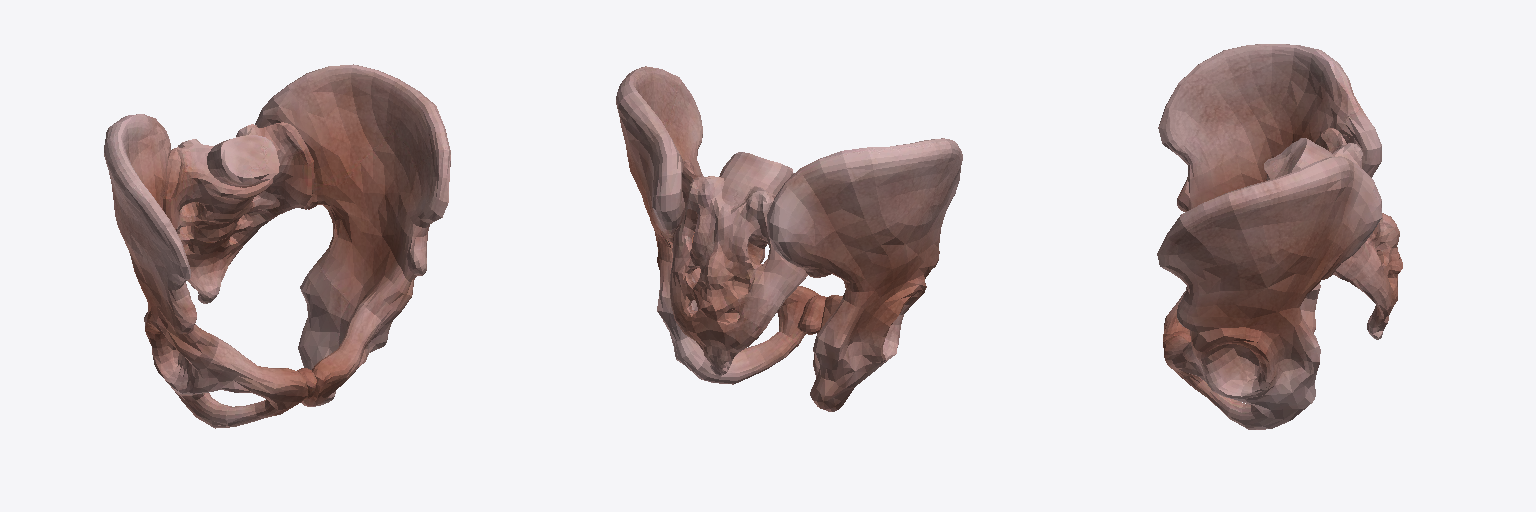
3 views of the same model, side by side, from view 1: azimuth 30°, elevation 25°; view 2: azimuth 150°, elevation 25°; view 3: azimuth 270°, elevation 25° (orthographic).
Visible parts, largest first — view 1: Group1, ZBrush_defualt_group, Group3, Group4; view 2: ZBrush_defualt_group, Group3, Group1, Group4, Group2; view 3: Group1, ZBrush_defualt_group, Group3, Group4.
Boxes of the visible parts, box(x1,y1,x2,y2) form: Group1: box(255, 64, 450, 406); ZBrush_defualt_group: box(104, 114, 307, 428); Group3: box(163, 122, 314, 303); Group4: box(207, 135, 279, 187); ZBrush_defualt_group: box(767, 138, 962, 411); Group3: box(670, 160, 807, 375); Group1: box(616, 66, 818, 384); Group4: box(719, 152, 793, 205); Group2: box(797, 295, 826, 334); Group1: box(1157, 156, 1381, 429); ZBrush_defualt_group: box(1158, 44, 1381, 338); Group3: box(1315, 128, 1402, 339); Group4: box(1264, 138, 1334, 180).
Bounding box in the file's own units: 1.76 × 1.6 × 1.19.
Materials: 1 (1 with a texture image).